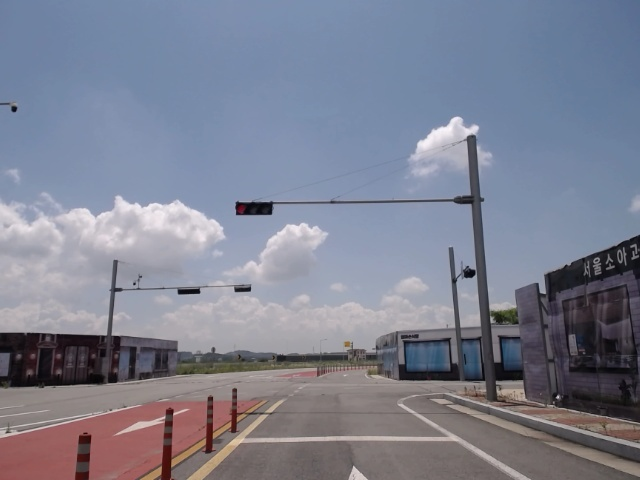red_3: (235, 201, 274, 216)
